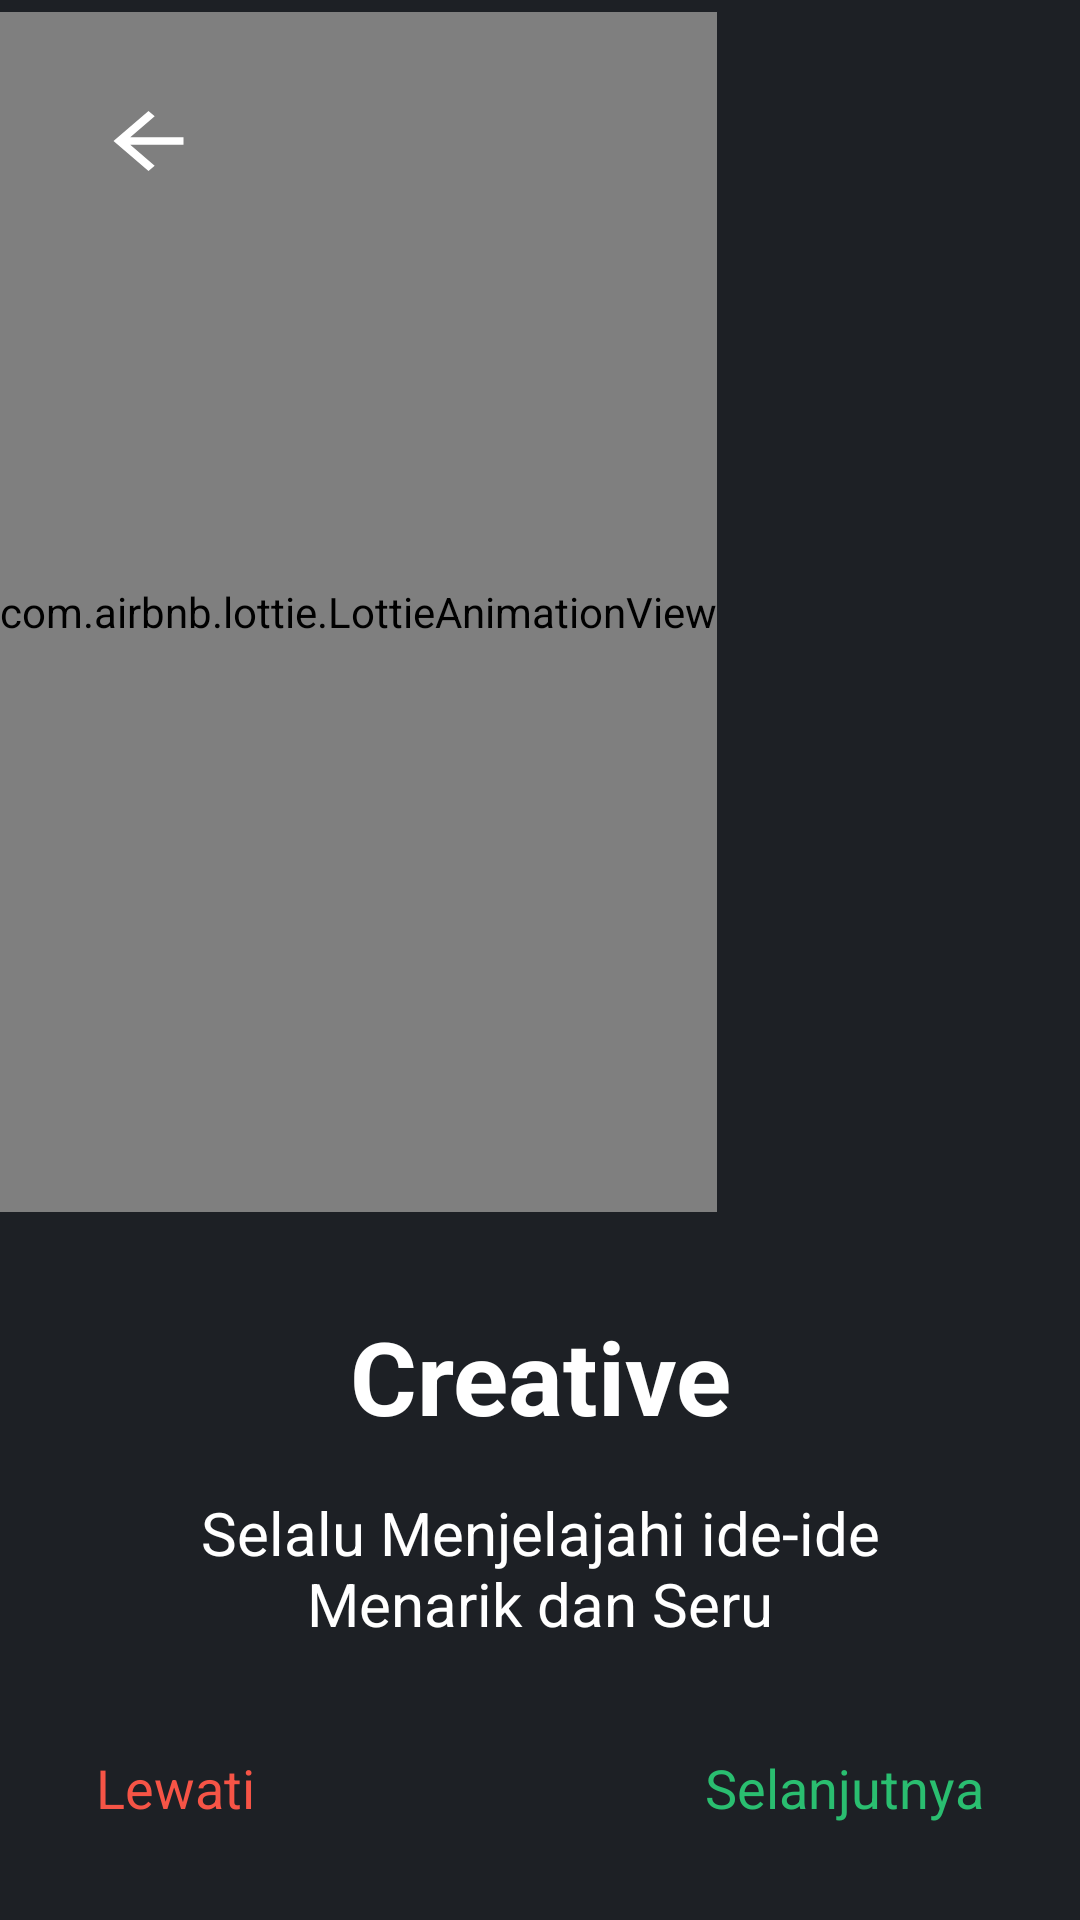

Point at icon controls on the screen. Image size 1080 x 1920, points as (x,y).
back: (149,141)
